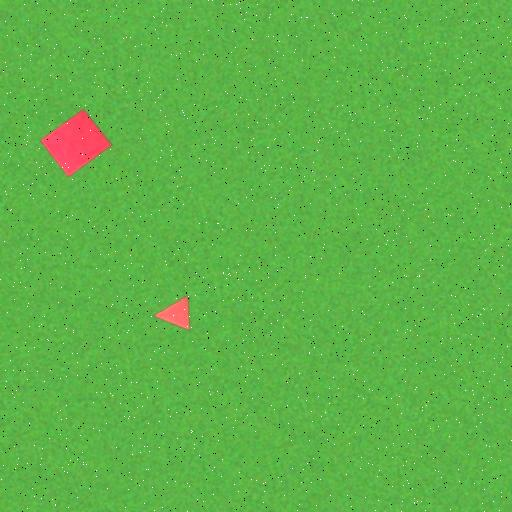RED_SQUARE: (40, 108, 113, 178)
